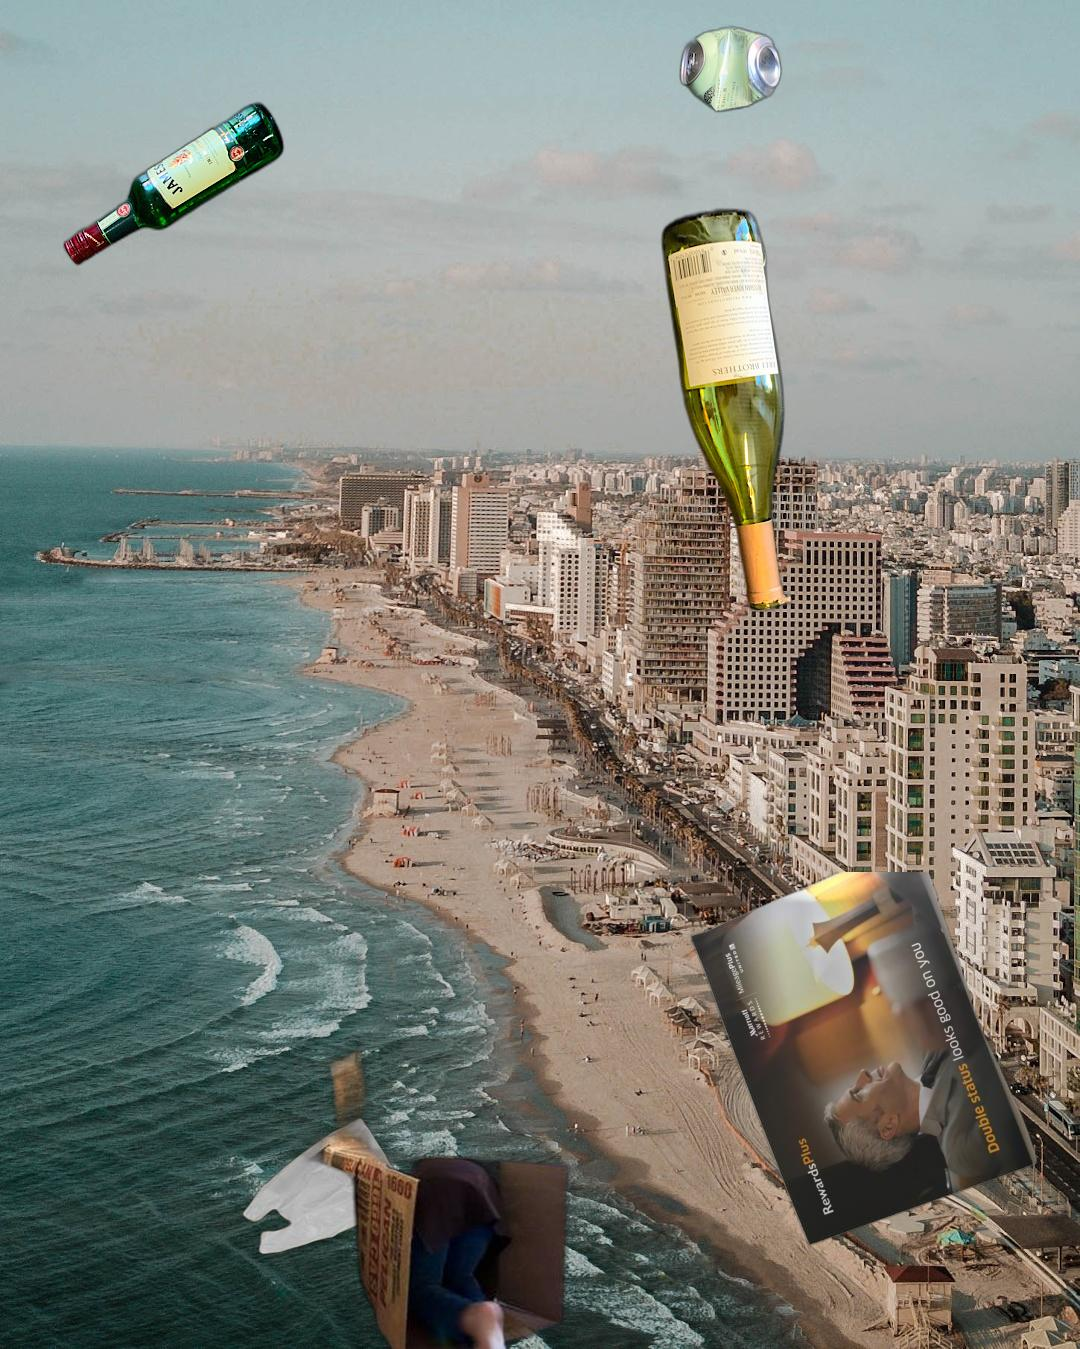glass: (657, 203, 796, 617), (60, 97, 288, 271)
metal-cans: (674, 21, 979, 442)
paper: (688, 872, 1043, 1248)
plastic-bag: (239, 1116, 414, 1256)
trashbox-cardboard: (287, 1015, 577, 1349)
